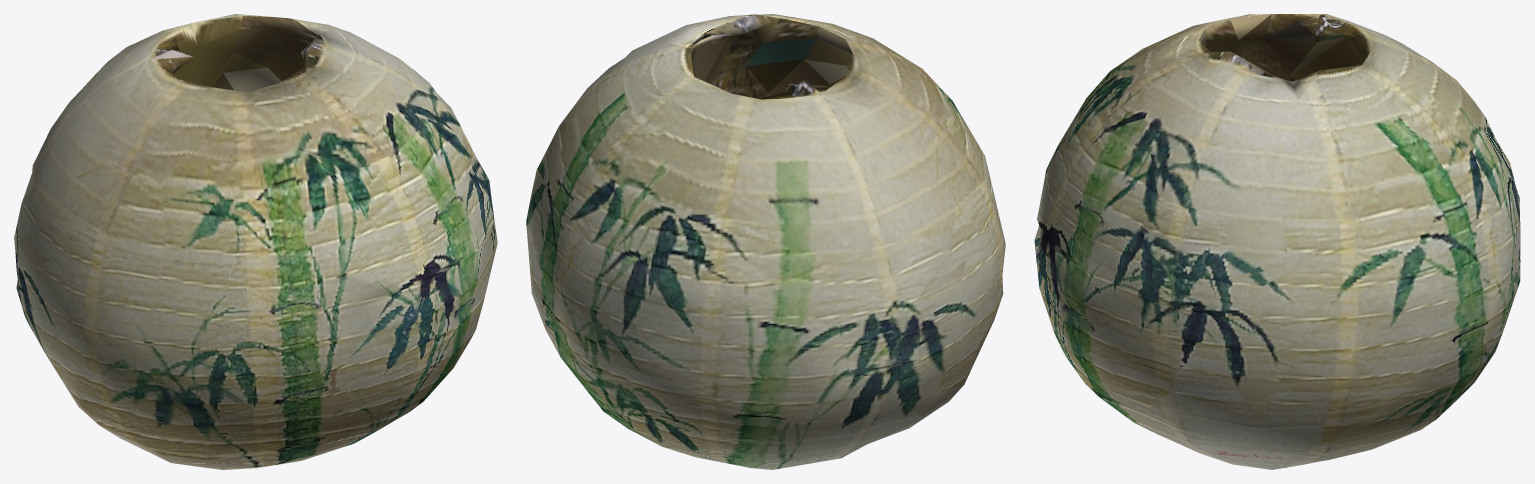
The model's file is AT6 Zea Bamboo 512.glb.
The picture shows the model from 3 angles, left to right: view 1: azimuth 30°, elevation 25°; view 2: azimuth 150°, elevation 25°; view 3: azimuth 270°, elevation 25°; orthographic projection.
Bounding box in the file's own units: 998 × 952 × 1000.
1 material, 1 textured.
